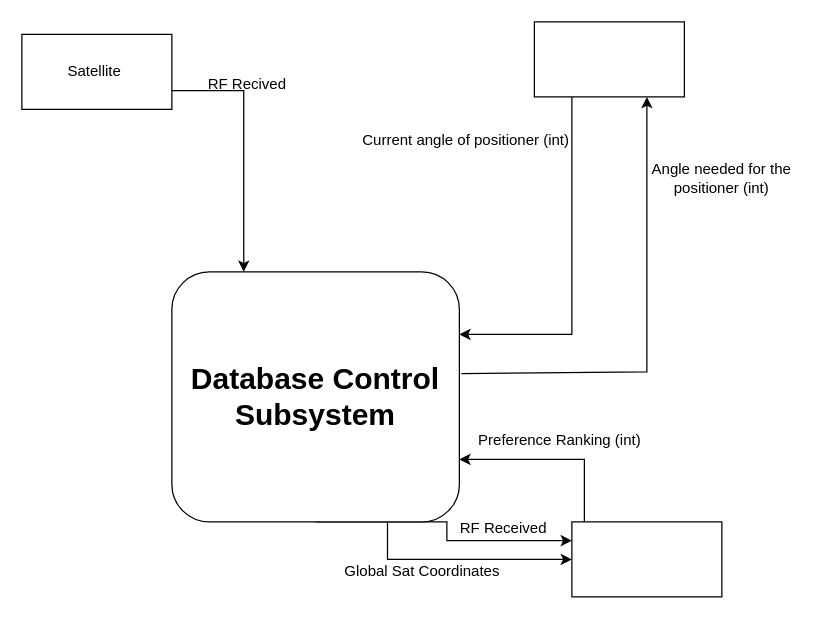
The diagram is 819 pixels wide and 619 high, and some of its shapes have lost their labels. The centre of each missing label's shape, as x and y in pixels:
GUI: (646,559)
Tracker: (608,59)
